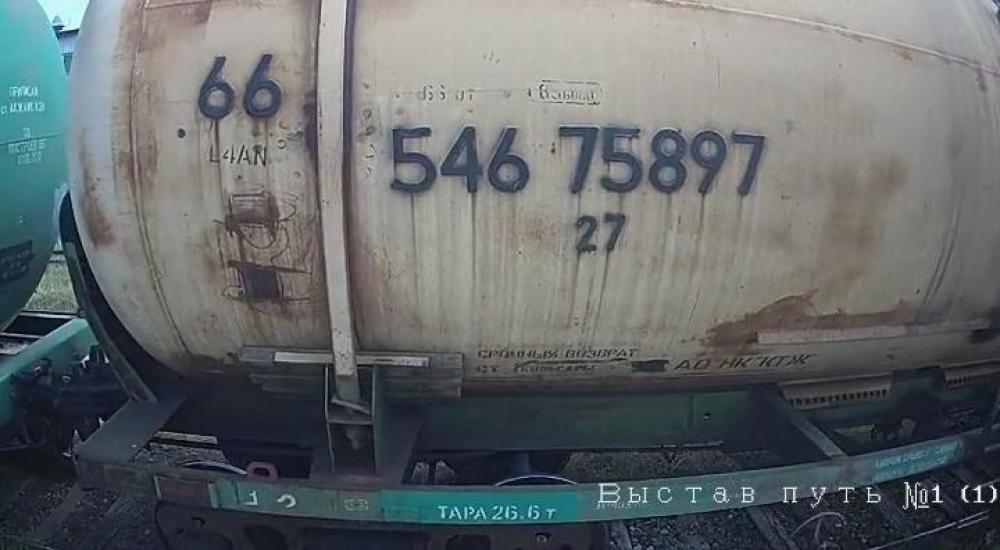Wagon-number: (386, 118, 770, 204)
